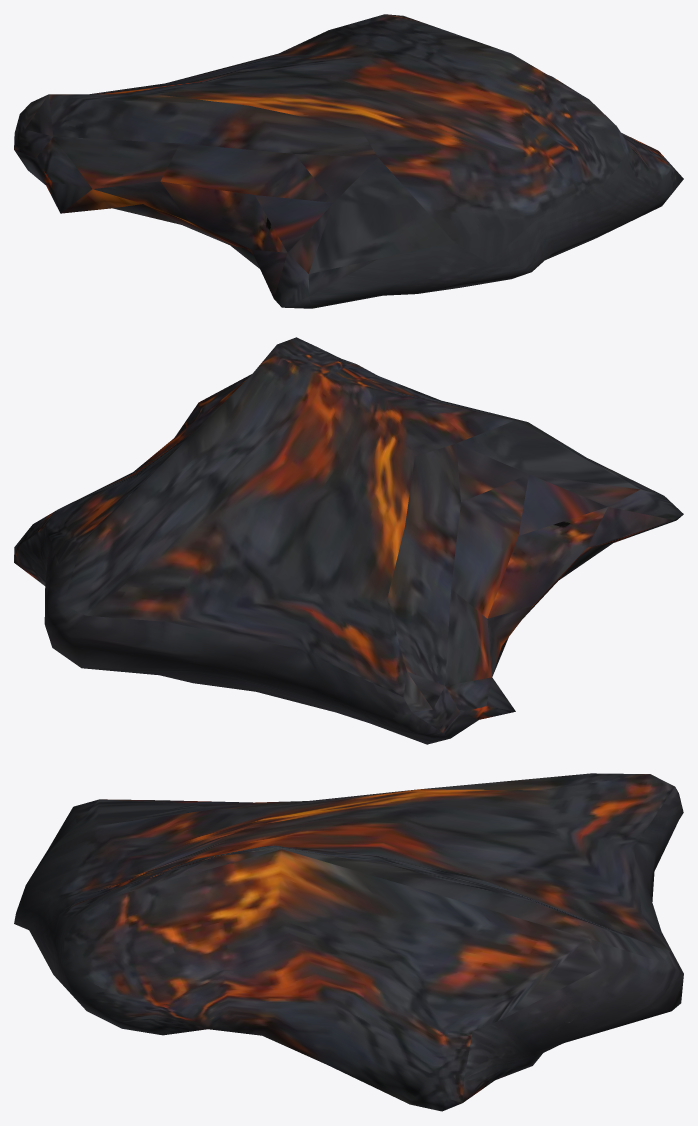
Rendered from rock-transformed.glb.
3 renders of one model, top to bottom at view 1: azimuth 30°, elevation 25°; view 2: azimuth 150°, elevation 25°; view 3: azimuth 270°, elevation 25°, orthographic. The views are drawn at different scales.
Visible parts, largest first — view 1: RockCube; view 2: RockCube; view 3: RockCube.
Boxes of the visible parts, x1=… form: RockCube: x1=14, y1=14, x2=683, y2=308; RockCube: x1=14, y1=337, x2=683, y2=744; RockCube: x1=14, y1=773, x2=683, y2=1111.
Size of the model in its own units: 3.66 by 1.13 by 3.7.
Materials: 1 (1 with a texture image).
